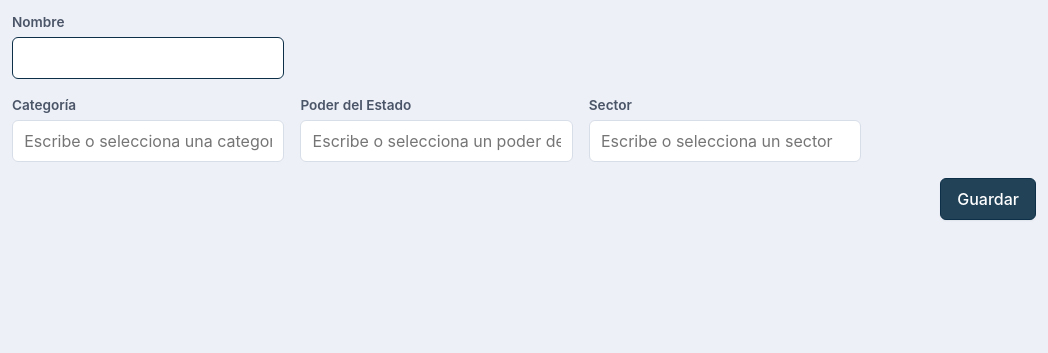
InstitutionForm › shows local validation errors and prevents submission when fields are blank
Click the button "Guardar": {"x": 988, "y": 199} 940,178 -> 1036,220
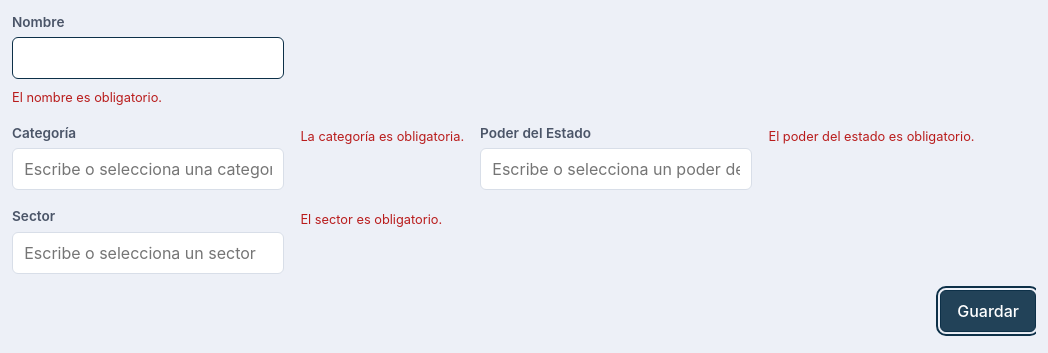
Check: the text "El nombre es obligatorio." is shown, box 12,90 -> 162,105
